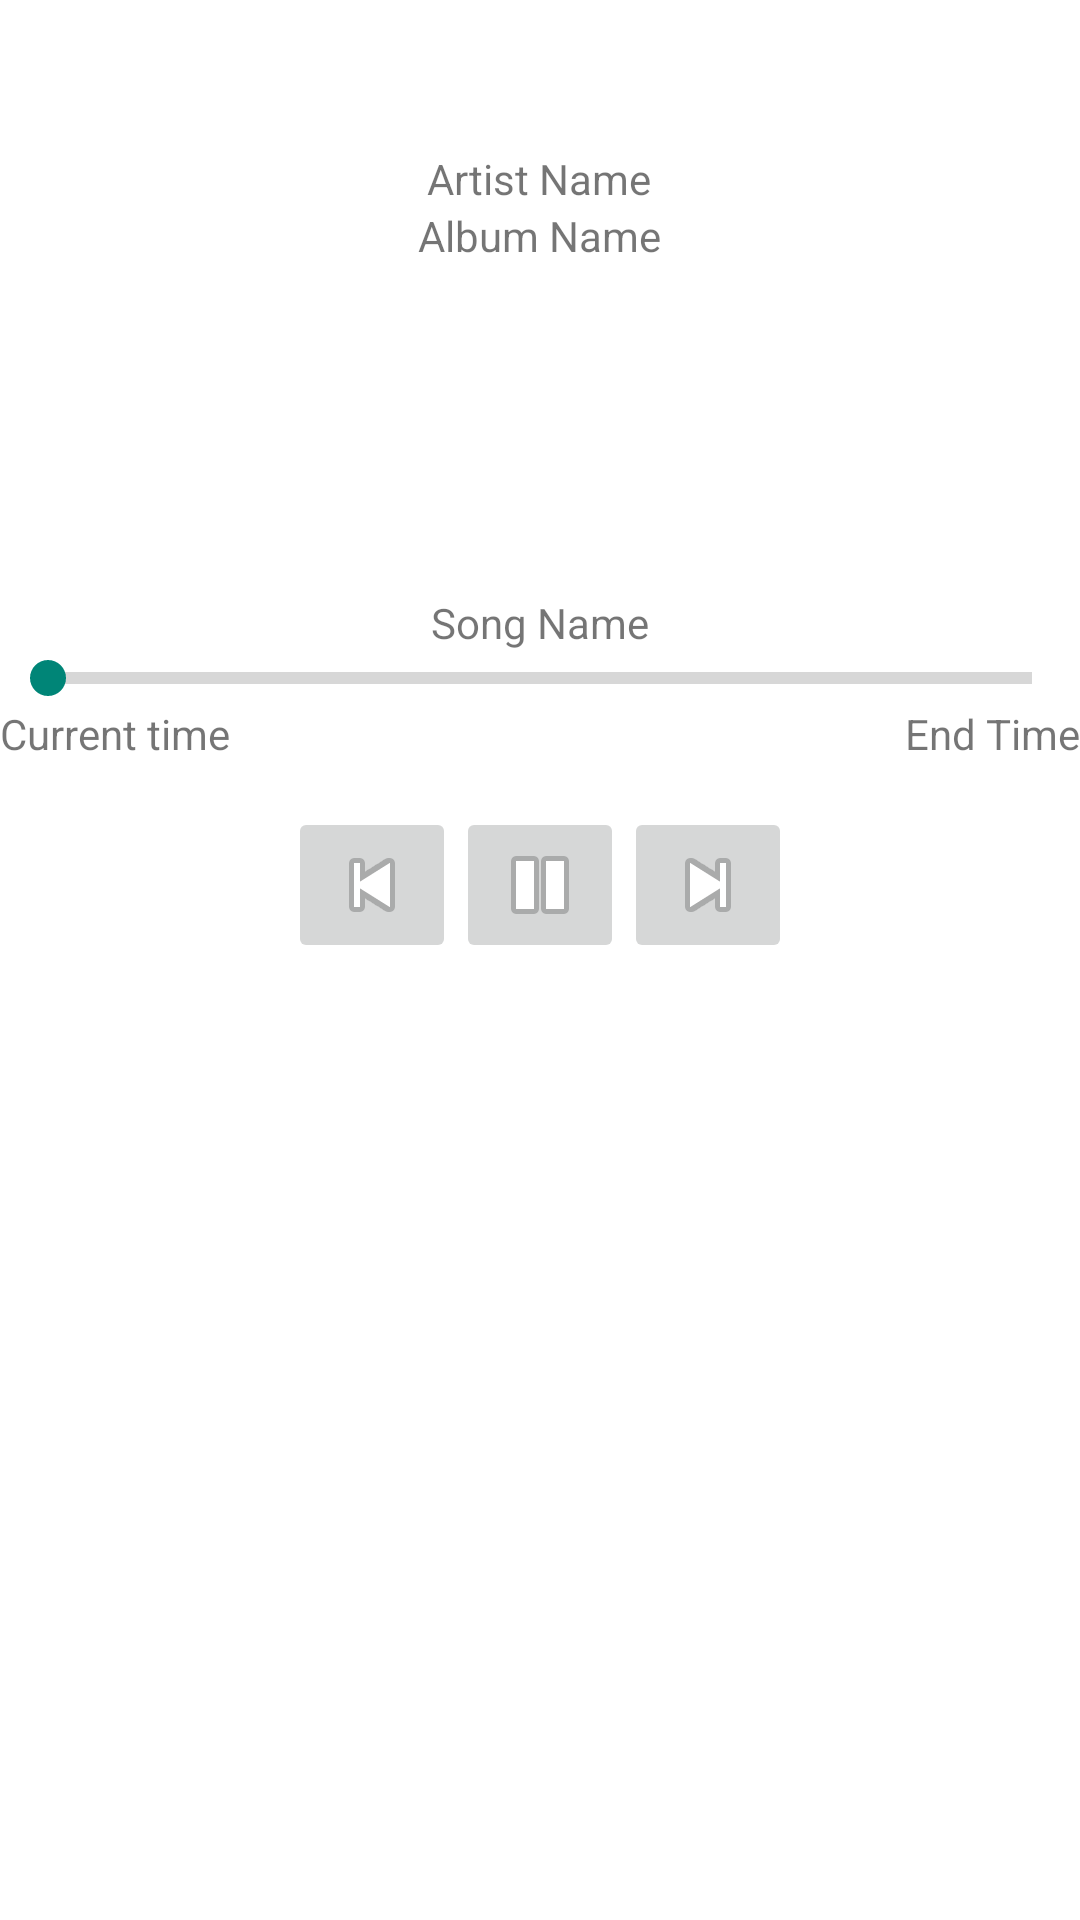

Icons on this 1080×1920 Android screen, each with the point to tap as (x=x, y=y):
next: (x=708, y=885)
pause: (x=540, y=885)
previous: (x=372, y=885)
